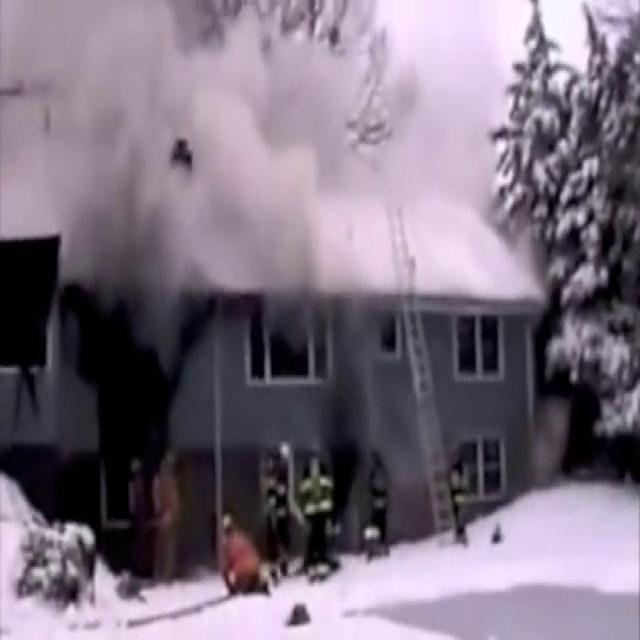Smoke: (1, 0, 546, 322)
